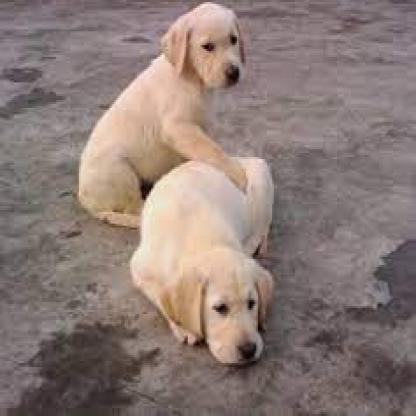Labarador Retriever: (81, 4, 249, 222), (126, 158, 276, 362)
